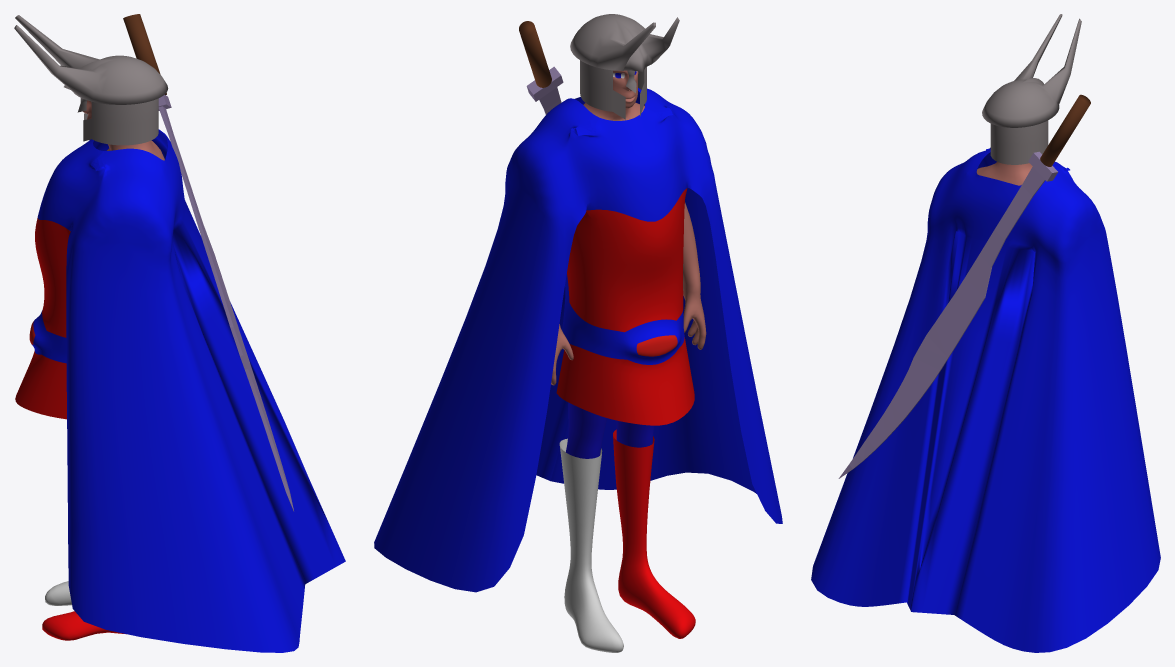
The model's file is argustav.obj.
The picture shows the model from 3 angles, left to right: view 1: azimuth 30°, elevation 25°; view 2: azimuth 150°, elevation 25°; view 3: azimuth 270°, elevation 25°; orthographic projection. The views are drawn at different scales.
Visible parts, largest first — view 1: argustav; view 2: argustav; view 3: argustav.
Boxes of the visible parts, x1,y1,x2,y2 form: argustav: [14, 14, 345, 652]; argustav: [374, 14, 782, 652]; argustav: [811, 14, 1160, 652].
Size of the model in its own units: 0.9563 by 1.82 by 1.06.
